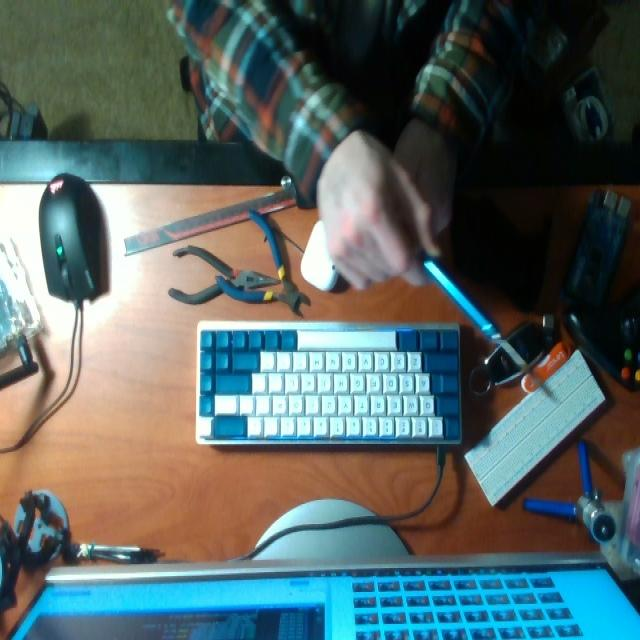keyboard: (197, 324, 462, 442)
